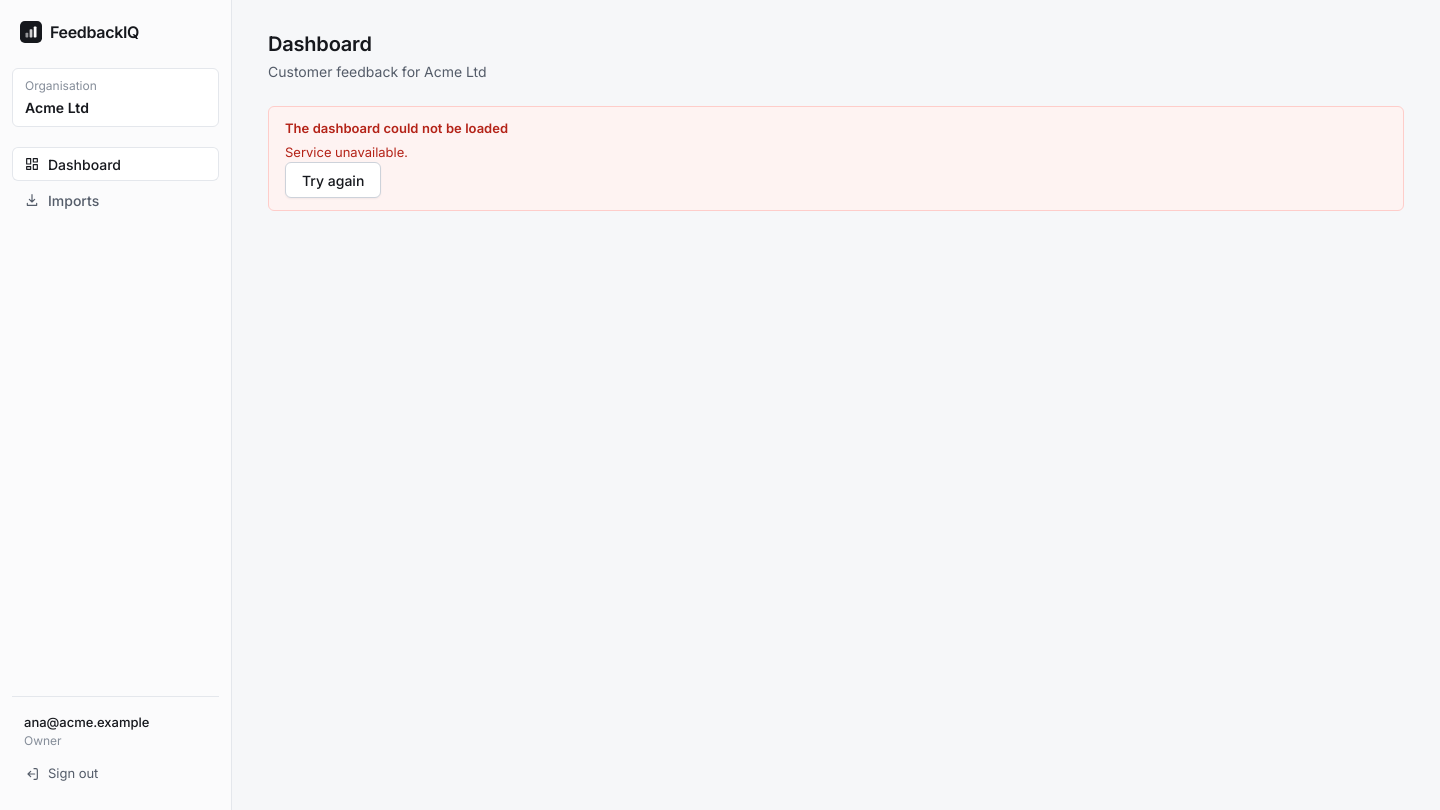
Test: states of the organisation's data › offers a retry when the figures cannot be loaded
Expected: the heading "Dashboard" is shown, x1=268 y1=32 x2=372 y2=56
Expected: the text "The dashboard could not be loaded" is shown, x1=285 y1=120 x2=508 y2=136
Click the button "Try again" at (333, 180), box x1=285 y1=162 x2=381 y2=198
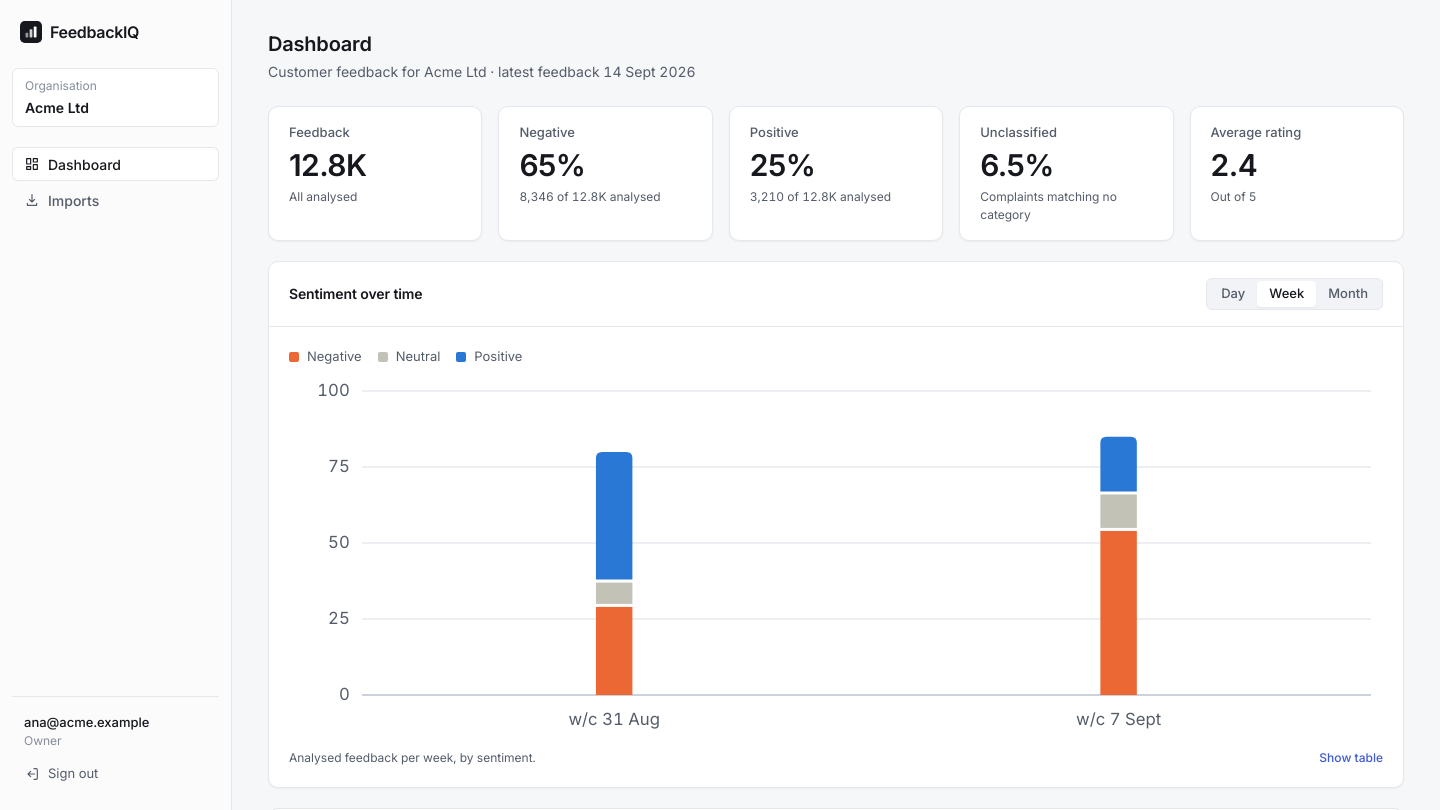
Expected: the text "65%" is shown, x1=519 y1=146 x2=585 y2=182
